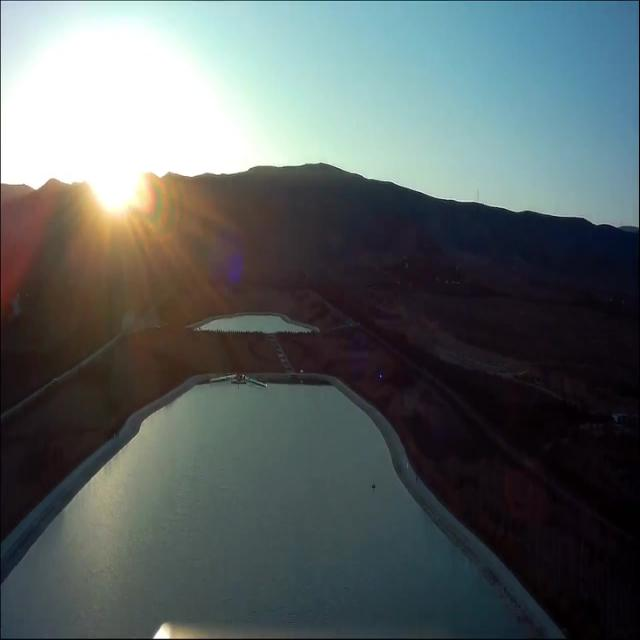iha: (210, 371, 267, 391)
